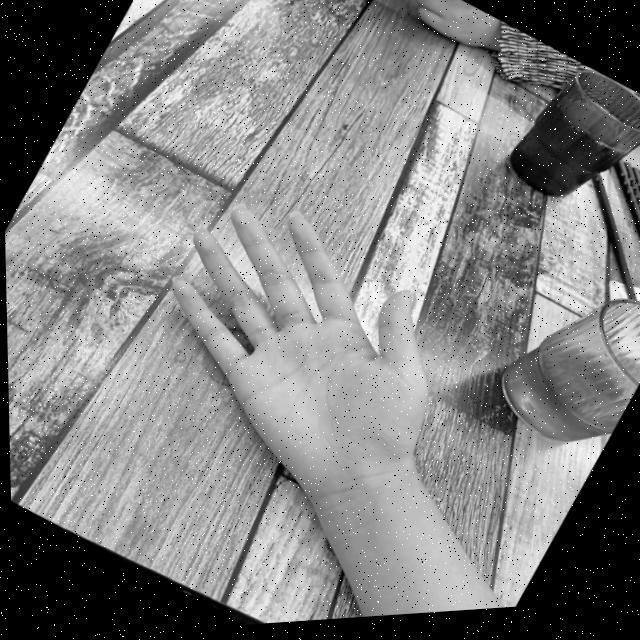no-gloves: (68, 138, 538, 584)
